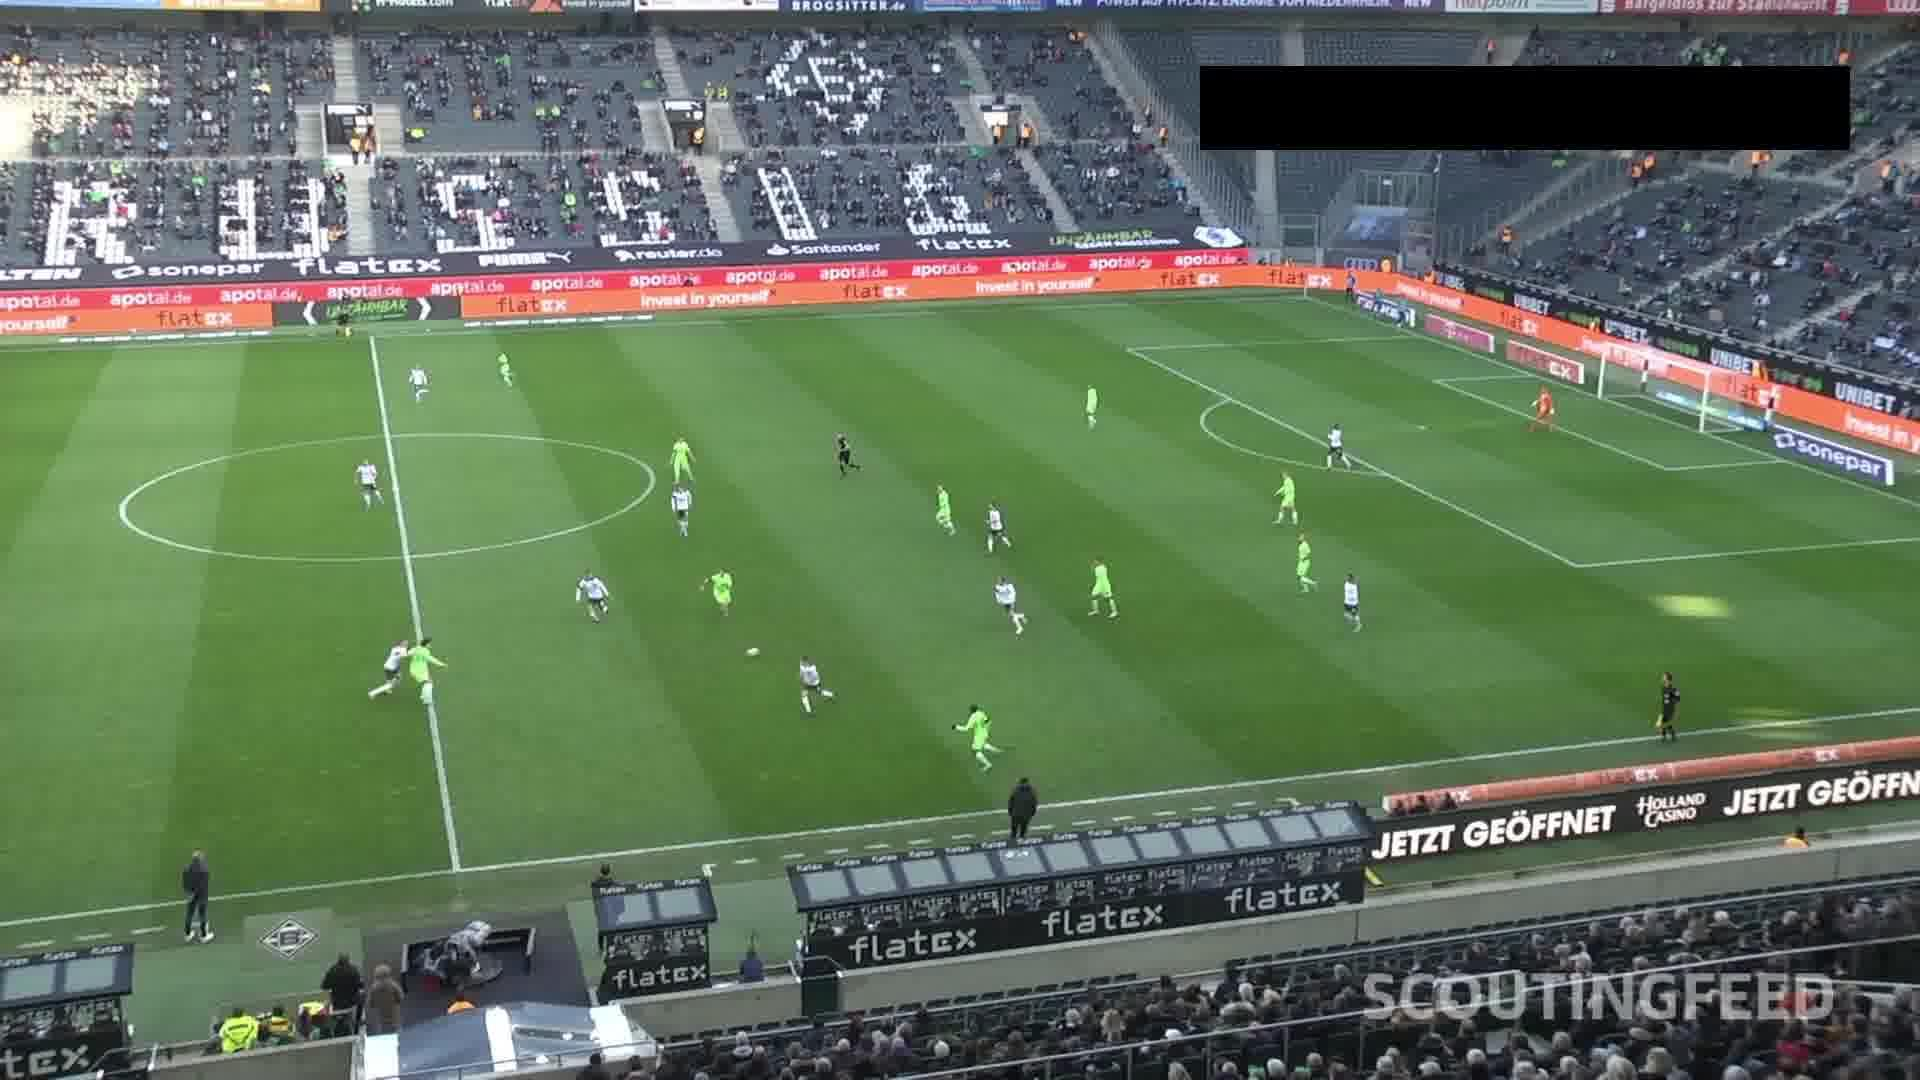football: (744, 647, 760, 655)
